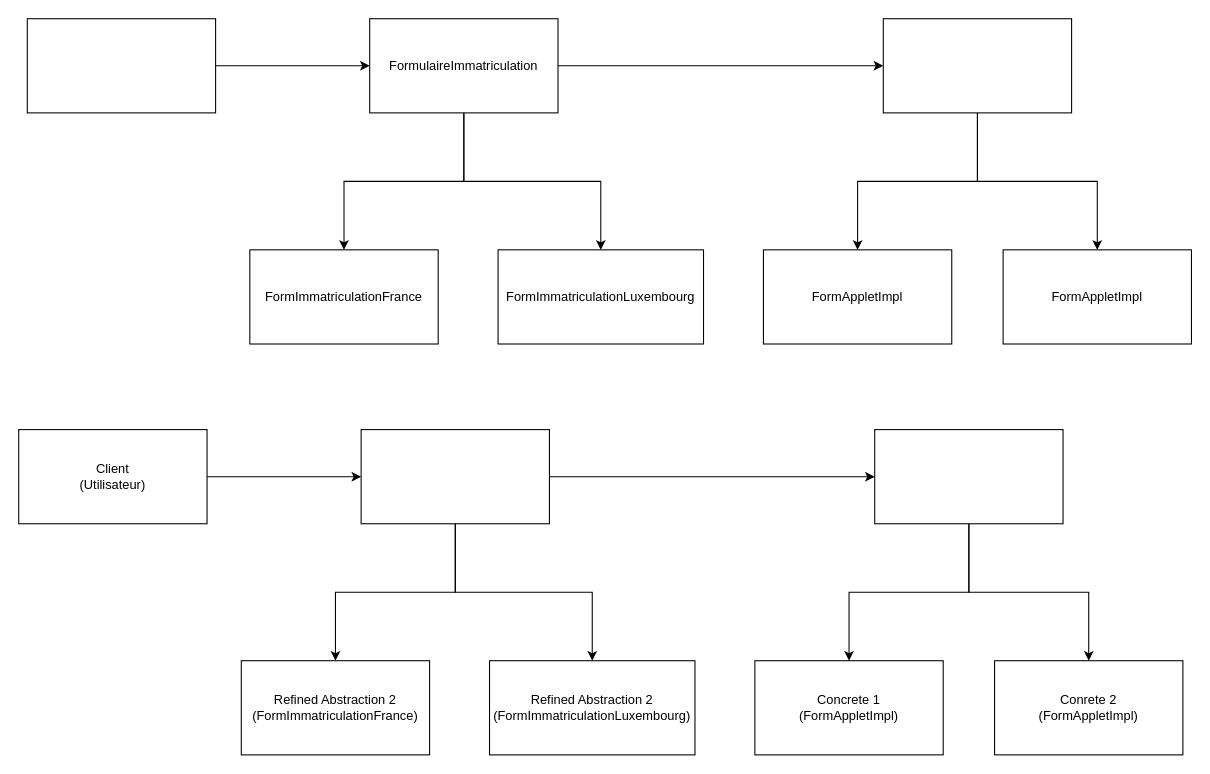
The diagram is 1210 pixels wide and 774 high, and some of its shapes have lost their labels. The box of each missing label's shape, as (x1, y1, x2, y2) in pixels:
Abstraction (FormulaireImmatriculation): (360, 429, 549, 524)
FormtImpl: (882, 18, 1072, 113)
Implementation (FormtImpl): (874, 429, 1063, 524)
Utilisateur: (26, 18, 216, 113)
